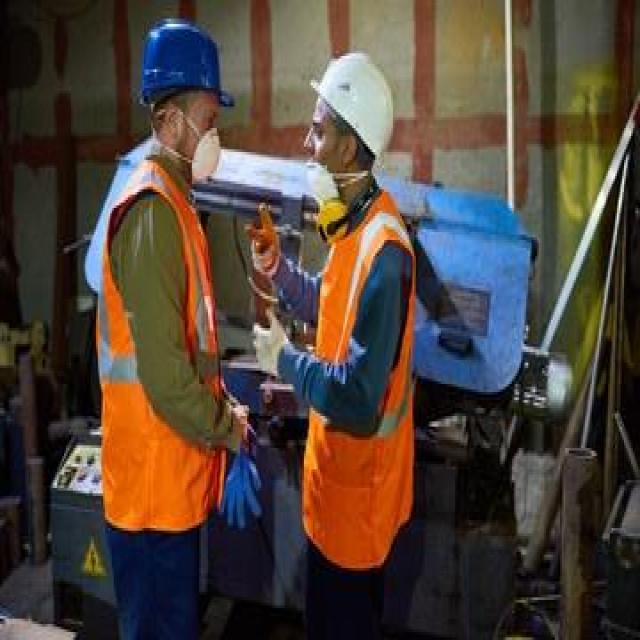helmet: (297, 48, 405, 163), (130, 8, 240, 115)
person: (87, 5, 256, 624), (263, 46, 421, 630)
vest: (98, 160, 231, 520), (300, 203, 414, 549)
